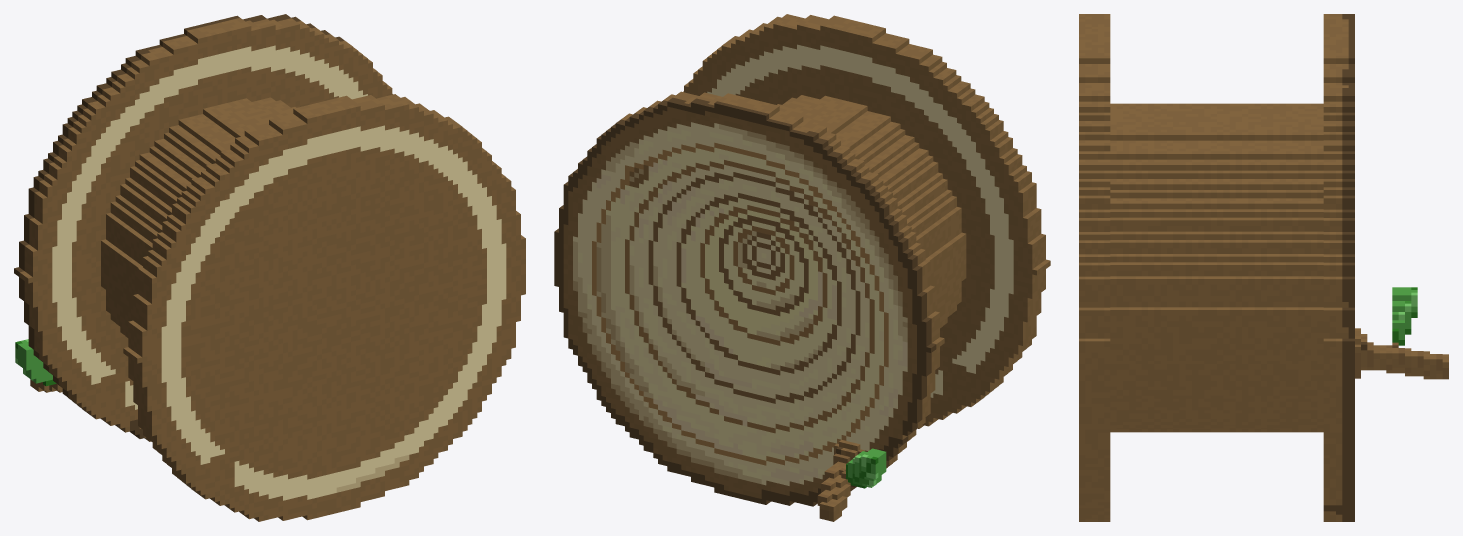
Rendered from wheel.FBX.
3 views of the same model, side by side, from view 1: azimuth 30°, elevation 25°; view 2: azimuth 150°, elevation 25°; view 3: azimuth 270°, elevation 25° (orthographic). The views are drawn at different scales.
Parts seen in each view (by area): view 1: default055; view 2: default055; view 3: default055.
Boxes of the visible parts, x1,y1,x2,y2 form: default055: (14, 14, 525, 521); default055: (554, 14, 1050, 521); default055: (1079, 14, 1448, 521).
Size of the model in its own units: 1050 by 1037 by 775.
